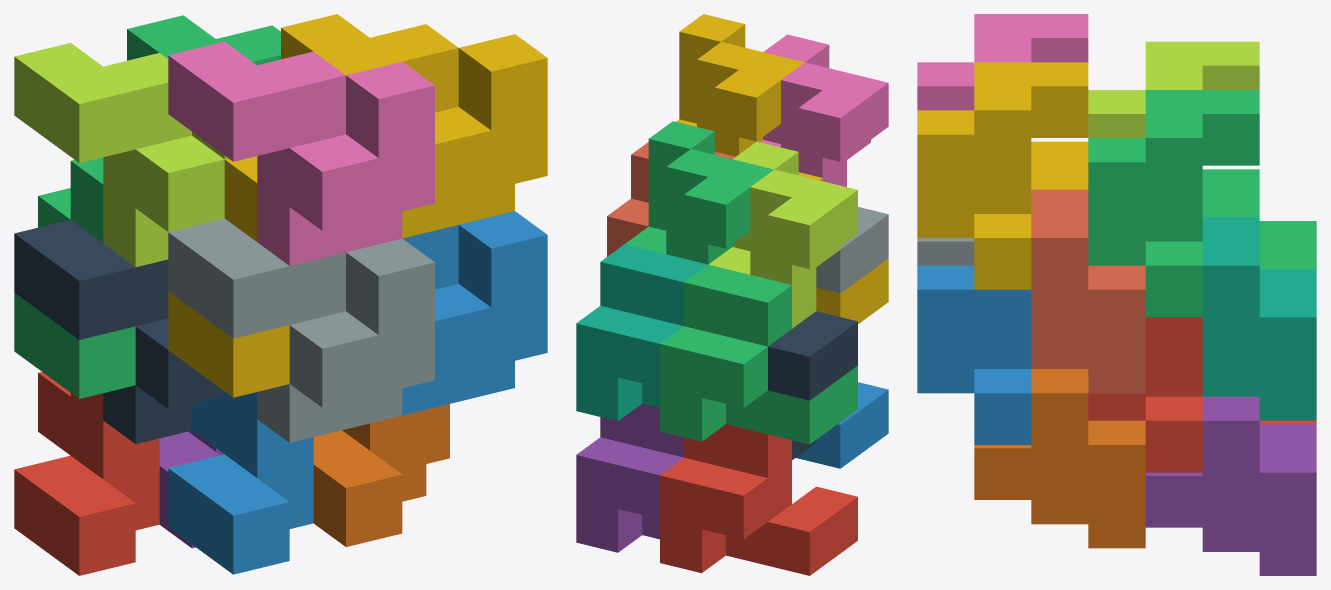
The model's file is tiling.obj.
The picture shows the model from 3 angles, left to right: view 1: azimuth 30°, elevation 25°; view 2: azimuth 150°, elevation 25°; view 3: azimuth 270°, elevation 25°; orthographic projection. The views are drawn at different scales.
Visible parts, largest first — view 1: copy_2_domain_4, copy_2_domain_2, copy_2_domain_3, copy_2_domain_8, copy_2_domain_1, copy_2_domain_6, copy_1_domain_1, copy_1_domain_2, copy_1_domain_6, copy_1_domain_3, copy_1_domain_4, copy_2_domain_7 (+1 smaller); view 2: copy_1_domain_1, copy_1_domain_3, copy_1_domain_7, copy_2_domain_3, copy_2_domain_7, copy_2_domain_8, copy_2_domain_4, copy_1_domain_5, copy_2_domain_1, copy_1_domain_2, copy_2_domain_2, copy_1_domain_4 (+1 smaller); view 3: copy_2_domain_8, copy_2_domain_7, copy_1_domain_5, copy_1_domain_6, copy_1_domain_7, copy_1_domain_8, copy_2_domain_6, copy_2_domain_5, copy_2_domain_4, copy_2_domain_3, copy_1_domain_3, copy_1_domain_4 (+1 smaller).
Boxes of the visible parts, bbox=[...] form: copy_2_domain_4: bbox=[168, 41, 434, 265]; copy_2_domain_2: bbox=[168, 218, 434, 442]; copy_2_domain_3: bbox=[14, 43, 228, 267]; copy_2_domain_8: bbox=[281, 14, 547, 238]; copy_2_domain_1: bbox=[14, 220, 224, 443]; copy_2_domain_6: bbox=[402, 211, 547, 415]; copy_1_domain_1: bbox=[14, 372, 159, 575]; copy_1_domain_2: bbox=[168, 392, 313, 574]; copy_1_domain_6: bbox=[313, 404, 449, 546]; copy_1_domain_3: bbox=[14, 157, 135, 398]; copy_1_domain_4: bbox=[168, 156, 289, 397]; copy_2_domain_7: bbox=[127, 15, 280, 65]; copy_1_domain_1: bbox=[660, 424, 857, 575]; copy_1_domain_3: bbox=[660, 264, 857, 444]; copy_1_domain_7: bbox=[576, 244, 707, 421]; copy_2_domain_3: bbox=[709, 141, 857, 328]; copy_2_domain_7: bbox=[625, 121, 773, 264]; copy_2_domain_8: bbox=[676, 14, 804, 156]; copy_2_domain_4: bbox=[760, 34, 888, 186]; copy_1_domain_5: bbox=[576, 403, 683, 552]; copy_2_domain_1: bbox=[768, 311, 857, 459]; copy_1_domain_2: bbox=[796, 382, 888, 468]; copy_2_domain_2: bbox=[816, 207, 888, 293]; copy_1_domain_4: bbox=[798, 172, 888, 323]; copy_2_domain_8: bbox=[917, 62, 1088, 289]; copy_2_domain_7: bbox=[1088, 90, 1259, 317]; copy_1_domain_5: bbox=[1145, 396, 1316, 575]; copy_1_domain_6: bbox=[974, 369, 1145, 548]; copy_1_domain_7: bbox=[1202, 217, 1316, 420]; copy_1_domain_8: bbox=[1031, 189, 1145, 393]; copy_2_domain_6: bbox=[917, 265, 1031, 444]; copy_2_domain_5: bbox=[1088, 317, 1202, 472]; copy_2_domain_4: bbox=[917, 14, 1088, 110]; copy_2_domain_3: bbox=[1088, 41, 1259, 137]; copy_1_domain_3: bbox=[1202, 169, 1316, 268]; copy_1_domain_4: bbox=[1031, 141, 1088, 189].
Size of the model in its own units: 6 by 9 by 7.
